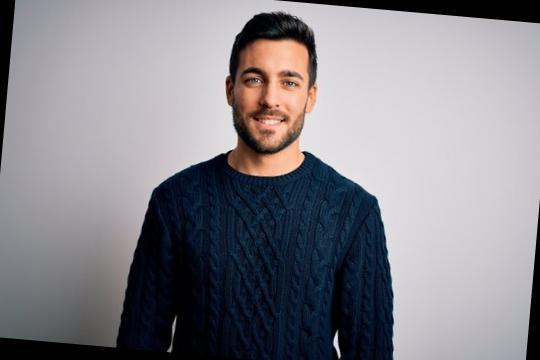Sober: (241, 44, 304, 147)
